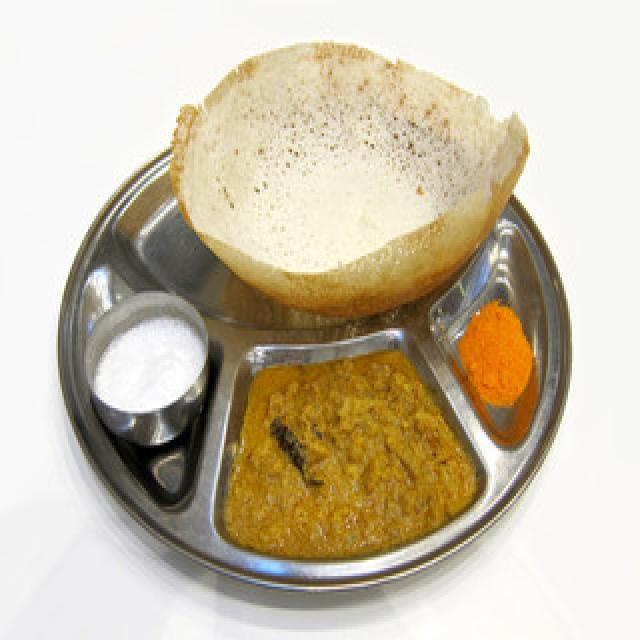AAPAM: (172, 43, 528, 315)
CURRY: (222, 352, 476, 557)
RED CHUTNEY: (458, 301, 532, 403)
